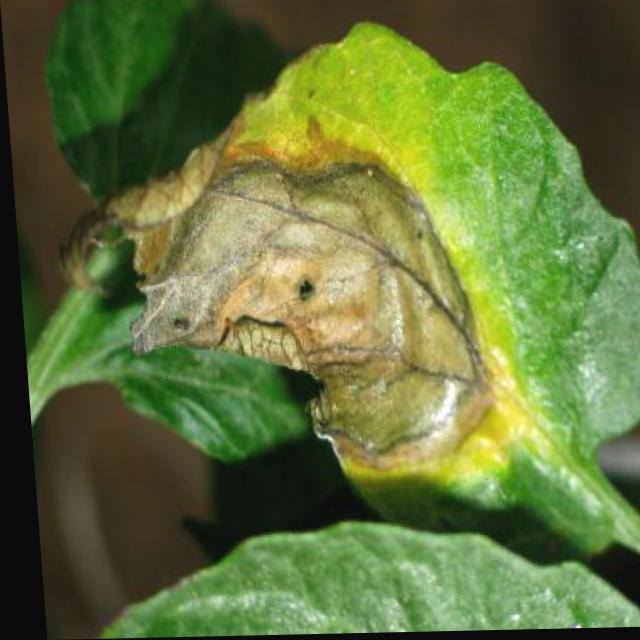Tomato mosaic virus leaf: (41, 16, 639, 614)
